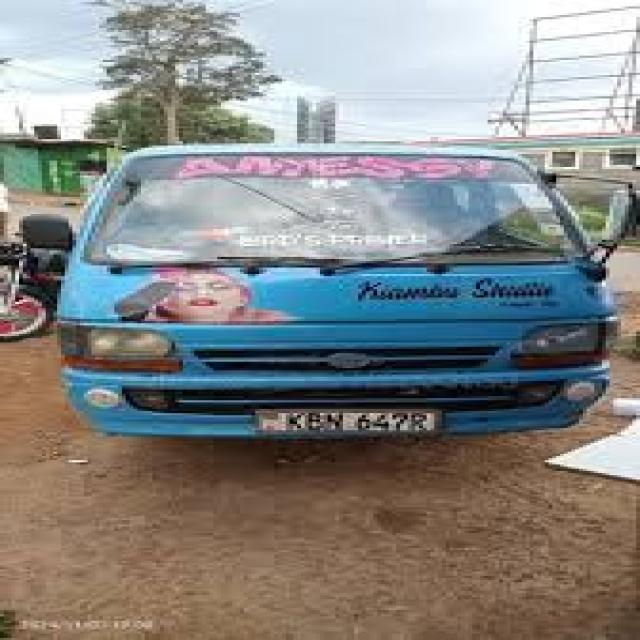matatu: (6, 64, 640, 484)
